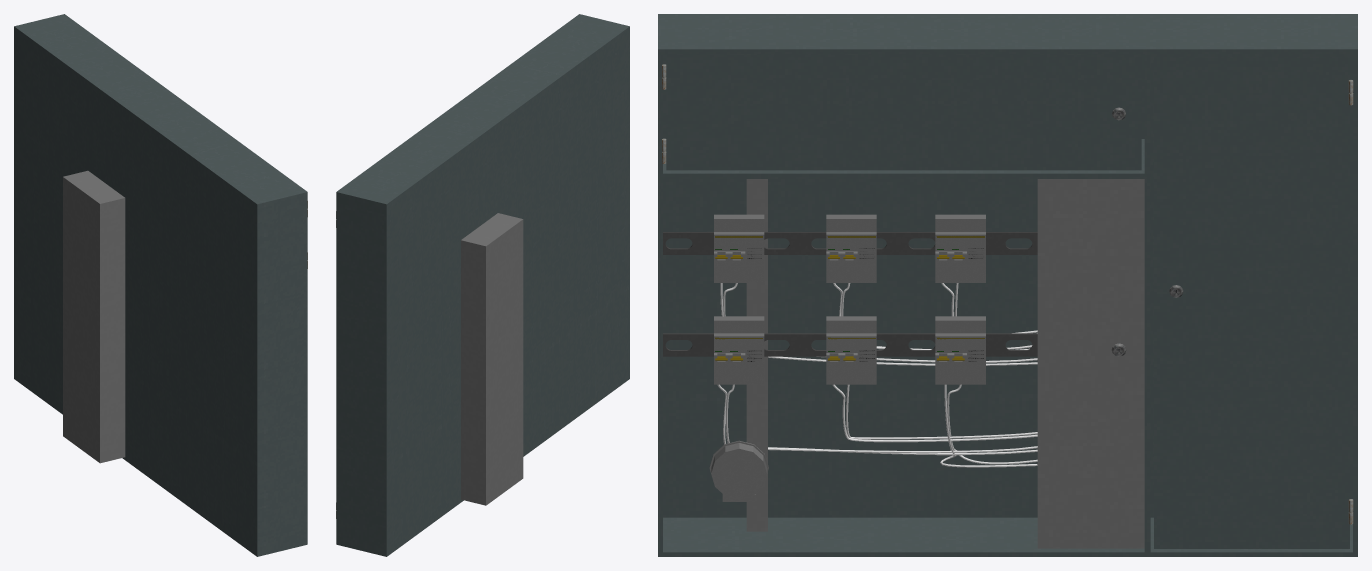
The model's file is электрощиток.glb.
3 views of the same model, side by side, from view 1: azimuth 30°, elevation 25°; view 2: azimuth 150°, elevation 25°; view 3: azimuth 270°, elevation 25° (orthographic). The views are drawn at different scales.
Parts seen in each view (by area): view 1: Cube, Cube.002; view 2: Cube, Cube.002; view 3: Cube, Cube.002, Cube.006, Cube.005, Cube.004, пробка.001, пробка.002, пробка.003, пробка.004, пробка.005, пробка, Circle (+4 smaller).
Part boxes in pixels (x1=…): Cube: x1=14, y1=14, x2=307, y2=556; Cube.002: x1=63, y1=170, x2=125, y2=463; Cube: x1=336, y1=14, x2=629, y2=556; Cube.002: x1=461, y1=213, x2=523, y2=505; Cube: x1=658, y1=14, x2=1357, y2=556; Cube.002: x1=1037, y1=179, x2=1144, y2=548; Cube.006: x1=663, y1=333, x2=1037, y2=356; Cube.005: x1=746, y1=179, x2=767, y2=531; Cube.004: x1=663, y1=232, x2=1037, y2=254; пробка.001: x1=935, y1=214, x2=985, y2=282; пробка.002: x1=826, y1=214, x2=876, y2=282; пробка.003: x1=826, y1=316, x2=876, y2=384; пробка.004: x1=935, y1=316, x2=985, y2=384; пробка.005: x1=714, y1=316, x2=764, y2=384; пробка: x1=714, y1=214, x2=764, y2=282; Circle: x1=709, y1=440, x2=768, y2=499.
Size of the model in its own units: 0.9291 by 4 by 5.
Materials: 3 (3 with a texture image).
